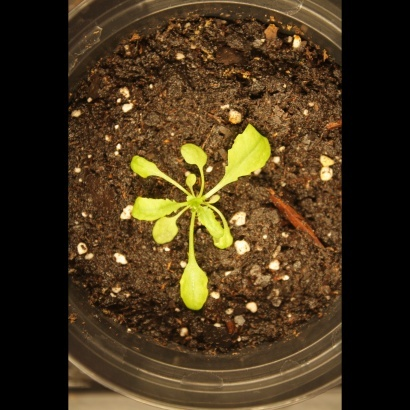leaf: (218, 118, 275, 184), (115, 148, 180, 188), (176, 249, 211, 320), (124, 192, 184, 220), (173, 133, 215, 167), (150, 215, 185, 255), (189, 201, 225, 238), (215, 226, 244, 255), (182, 170, 208, 195)
